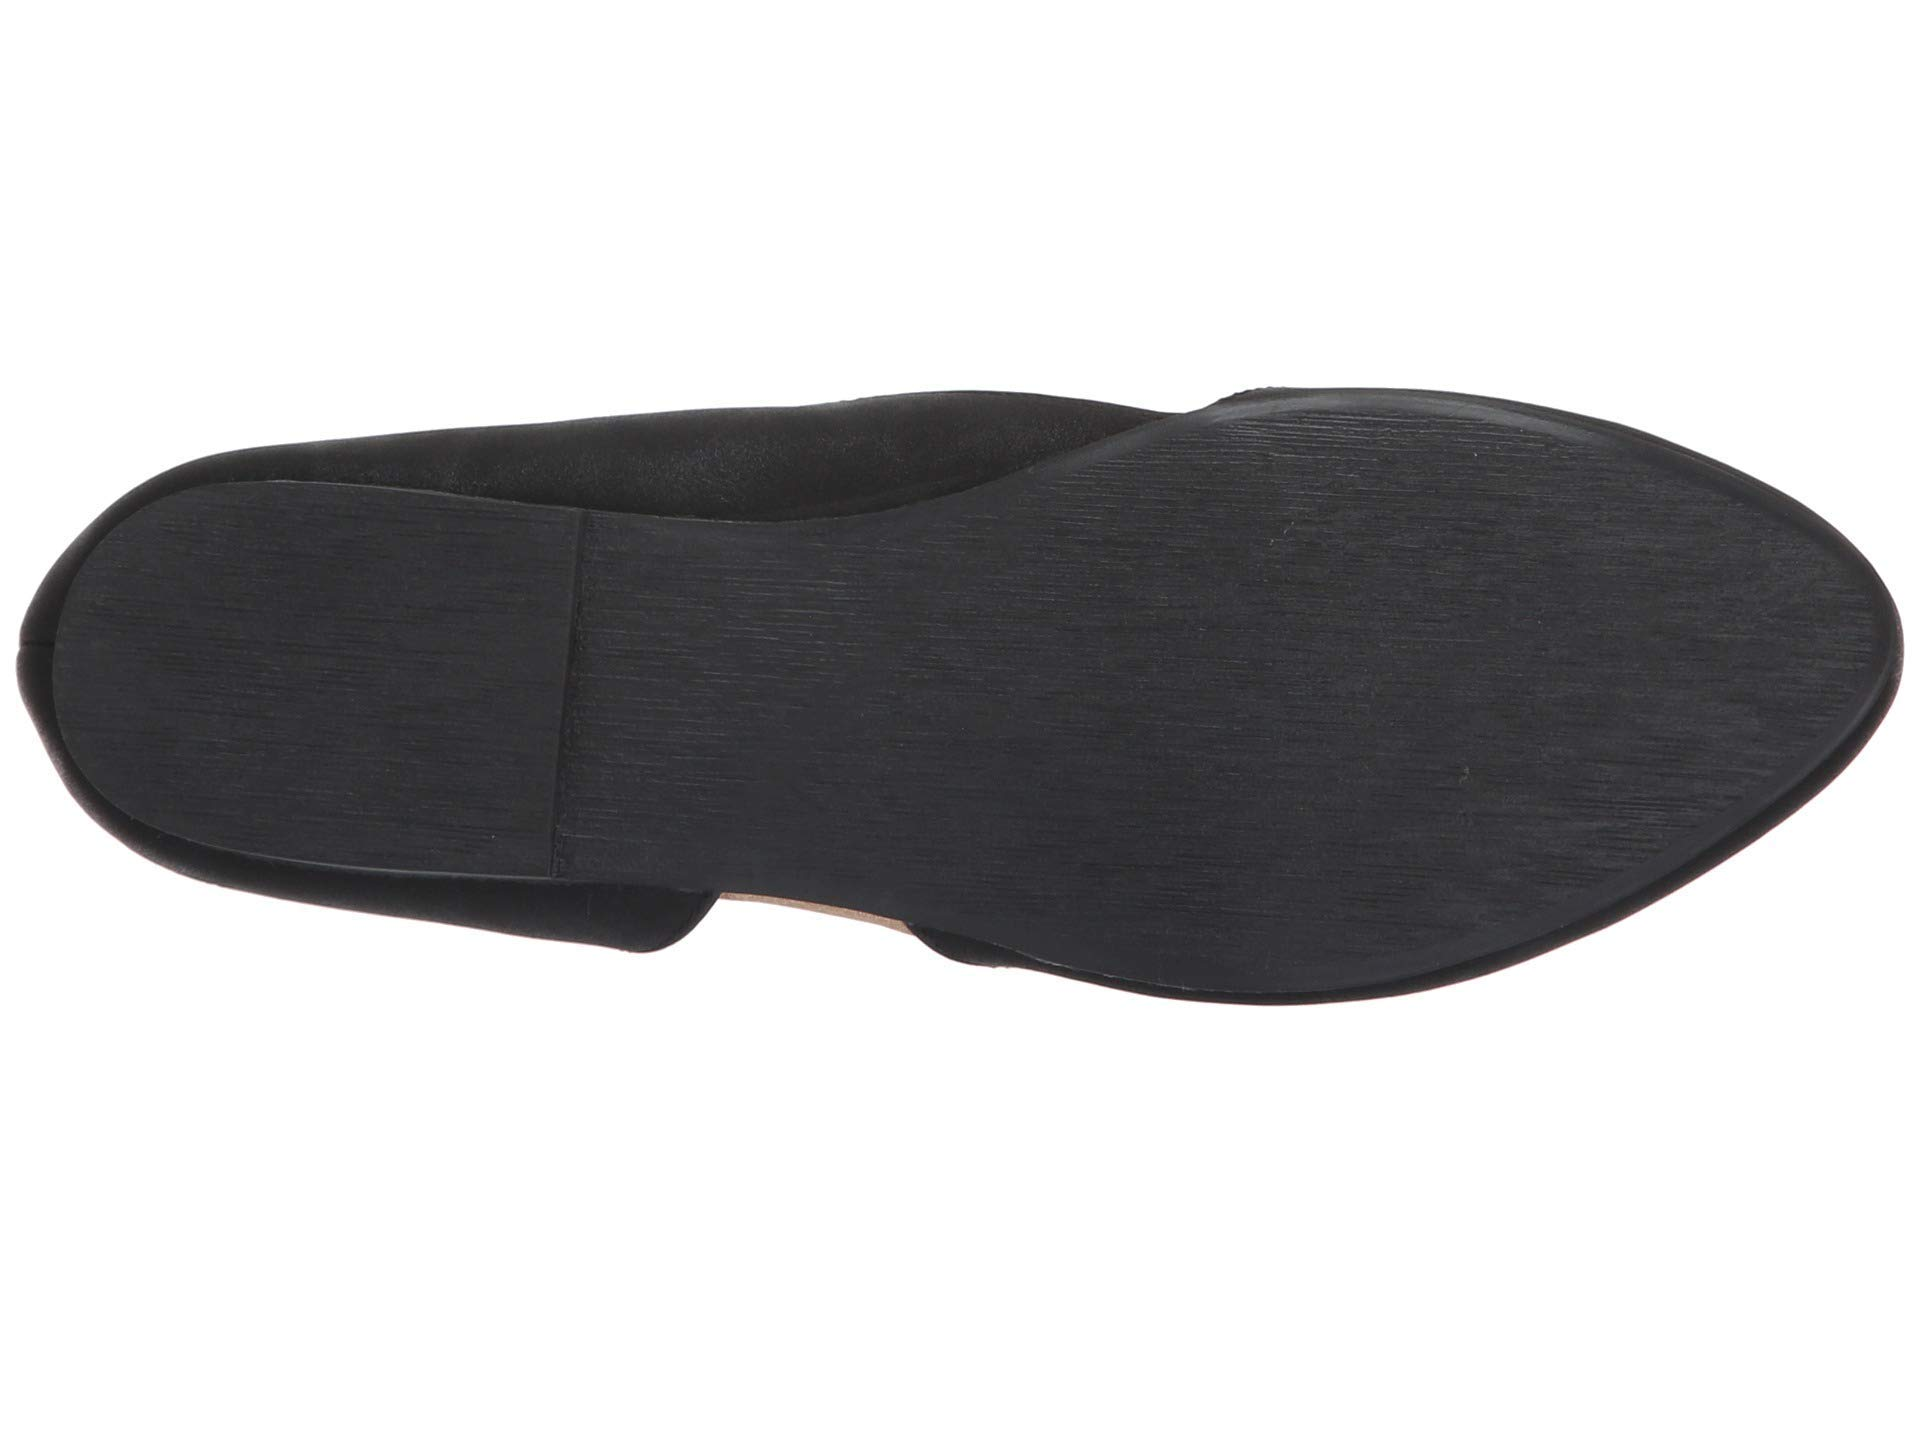line: (496, 523, 629, 849)
other: (847, 534, 1606, 824)
